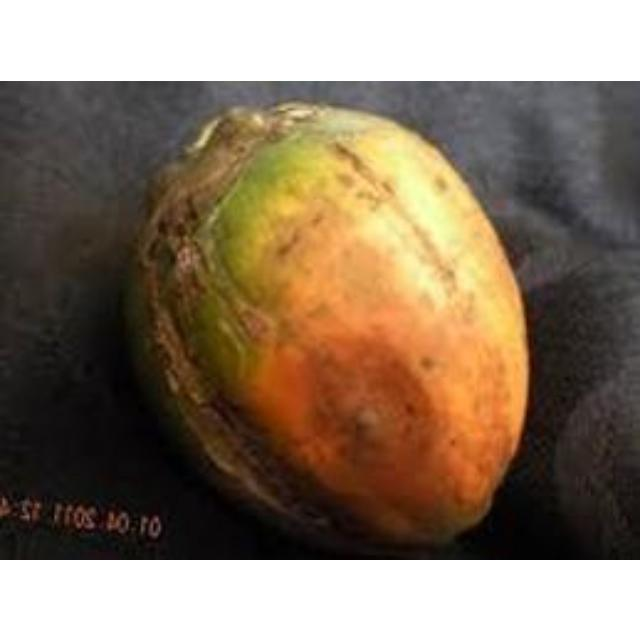damaged: (121, 102, 531, 557)
